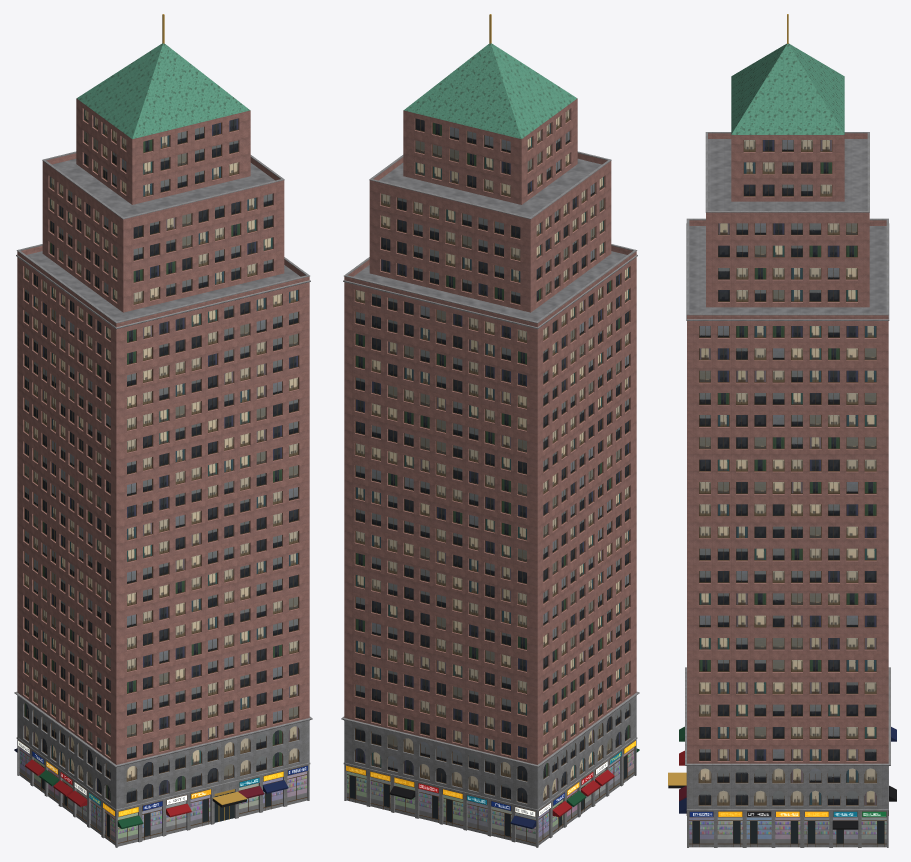
Rendered from hd20_postmodern_granite_office.gltf.
The picture shows the model from 3 angles, left to right: view 1: azimuth 30°, elevation 25°; view 2: azimuth 150°, elevation 25°; view 3: azimuth 270°, elevation 25°; orthographic projection.
Parts seen in each view (by area): view 1: hd20_postmodern_granite_office_LOD0; view 2: hd20_postmodern_granite_office_LOD0; view 3: hd20_postmodern_granite_office_LOD0.
Part boxes in pixels (x1,y1,x2,y2): hd20_postmodern_granite_office_LOD0: (14, 14, 312, 847); hd20_postmodern_granite_office_LOD0: (341, 14, 639, 847); hd20_postmodern_granite_office_LOD0: (668, 14, 896, 847).
Size of what is drawn, in the model's own units: 38.6 by 138 by 36.32.
16 materials, 7 textured.
